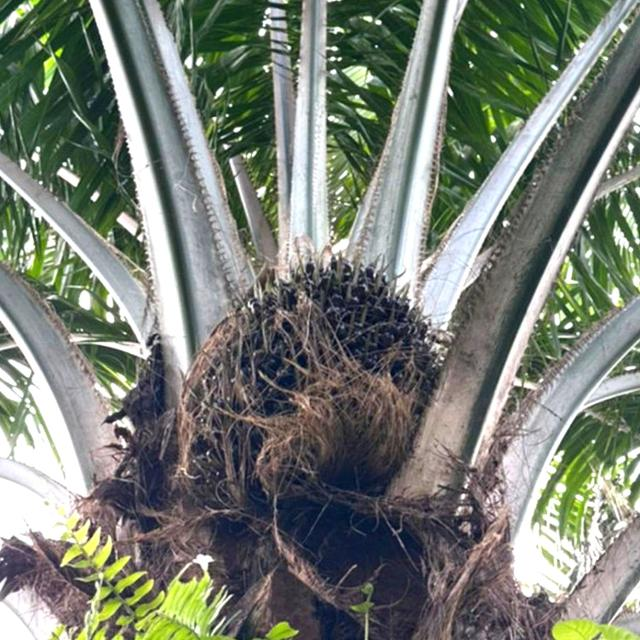almost: (203, 247, 437, 472)
